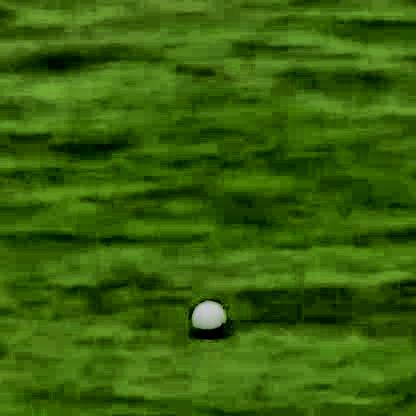golfball: (190, 296, 223, 332)
